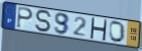2: (73, 17, 89, 38)
9: (53, 12, 71, 36)
H: (89, 17, 108, 42)
O: (109, 21, 127, 44)
P: (16, 6, 34, 30)
S: (34, 9, 53, 34)
